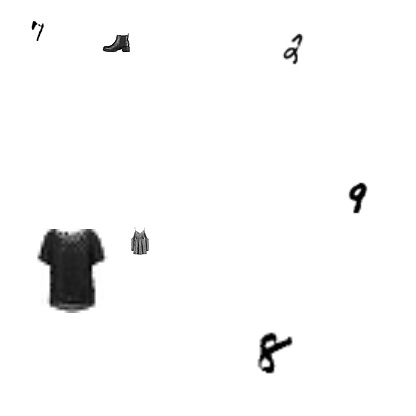1: (144, 67, 228, 151)
5: (22, 126, 134, 238)
8: (298, 287, 340, 329), (263, 233, 291, 261)
Shirt: (130, 9, 186, 65), (111, 303, 153, 345)
Trouser: (293, 25, 405, 137)
